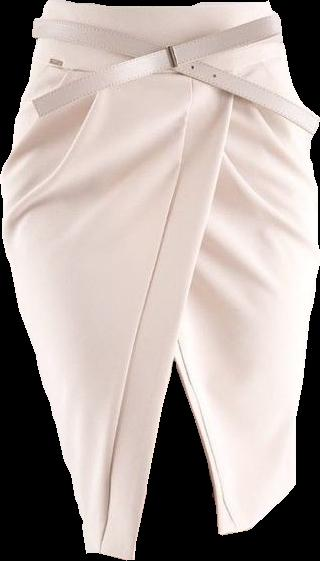Hemline: (85, 70, 241, 560), (172, 356, 299, 538)
Waistline: (30, 40, 288, 77), (47, 0, 273, 8)
